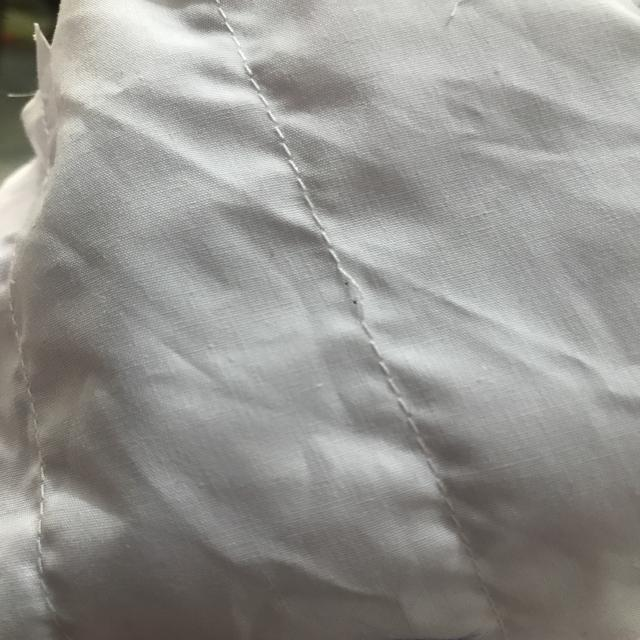good: (256, 105, 330, 227), (370, 354, 429, 456)
skip: (308, 259, 390, 331)
